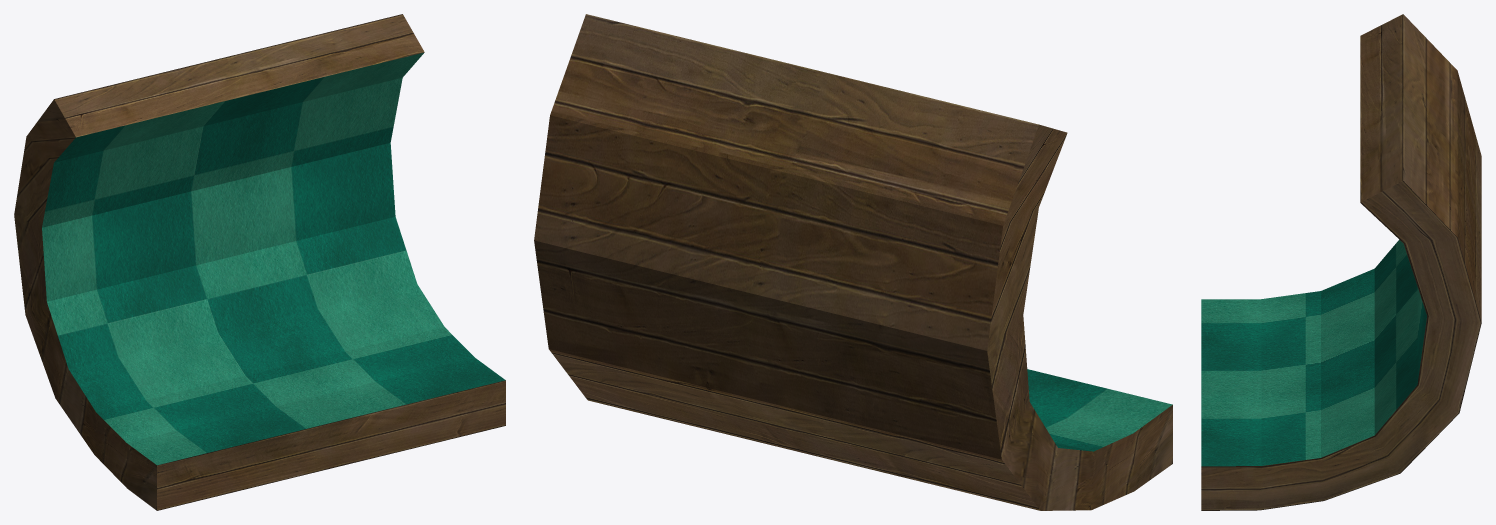
Rendered from Wall1.gltf.
3 views of the same model, side by side, from view 1: azimuth 30°, elevation 25°; view 2: azimuth 150°, elevation 25°; view 3: azimuth 270°, elevation 25° (orthographic). The views are drawn at different scales.
Visible parts, largest first — view 1: Wall1_glb; view 2: Wall1_glb; view 3: Wall1_glb.
Boxes of the visible parts, left/top/right/bottom form: Wall1_glb: left=14, top=14, right=505, bottom=510; Wall1_glb: left=534, top=14, right=1172, bottom=510; Wall1_glb: left=1201, top=14, right=1481, bottom=510.
Size of what is drawn, in the model's own units: 4 by 3.69 by 2.84.
2 materials, 2 textured.
